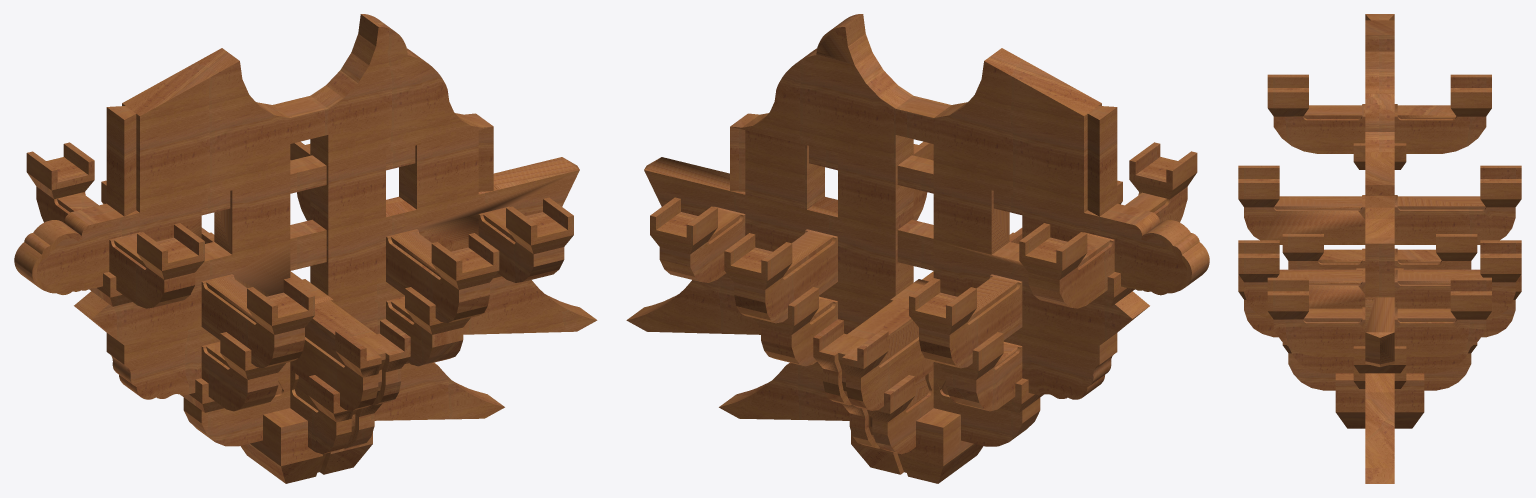
The picture shows the model from 3 angles, left to right: view 1: azimuth 30°, elevation 25°; view 2: azimuth 150°, elevation 25°; view 3: azimuth 270°, elevation 25°; orthographic projection. The views are drawn at different scales.
Parts seen in each view (by area): view 1: R3L6; view 2: R3L6; view 3: R3L6.
Part boxes in pixels (x1,y1,x2,y2): R3L6: (14, 14, 597, 483); R3L6: (626, 14, 1209, 483); R3L6: (1238, 14, 1521, 483).
Bounding box in the file's own units: 55.64 × 39.84 × 29.08.
Materials: 1 (1 with a texture image).
